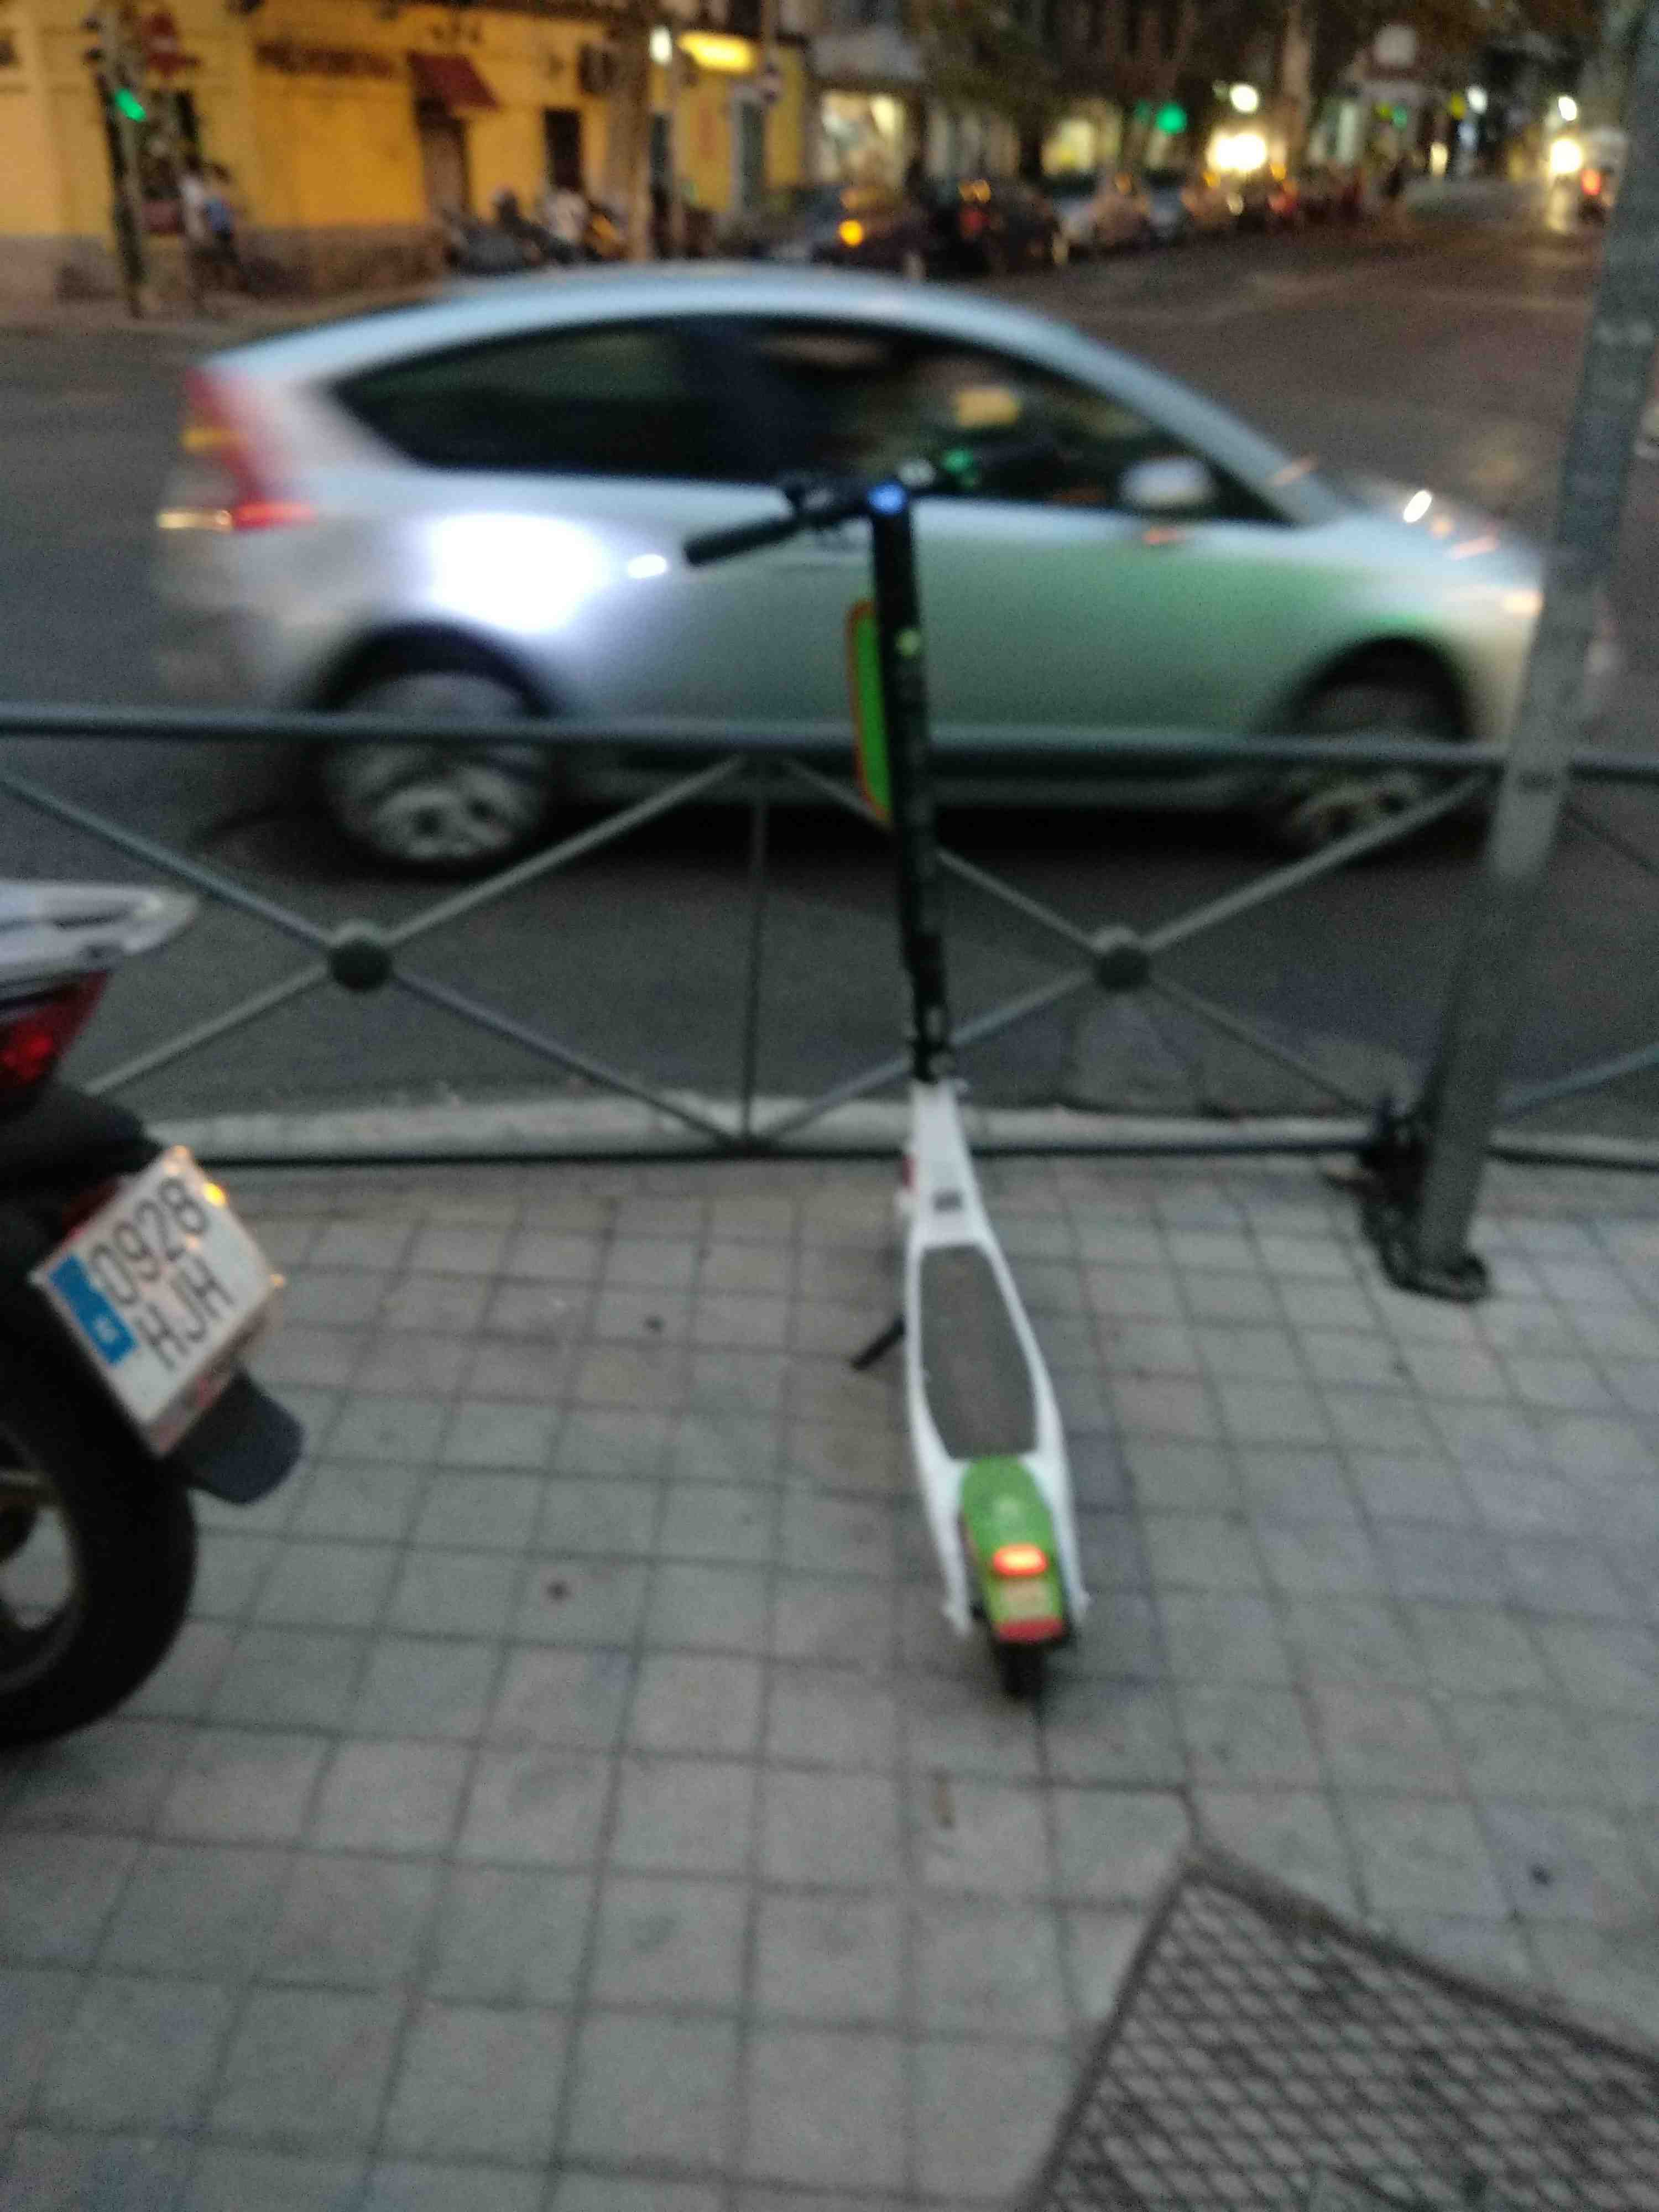scooter: (653, 448, 1183, 1728)
